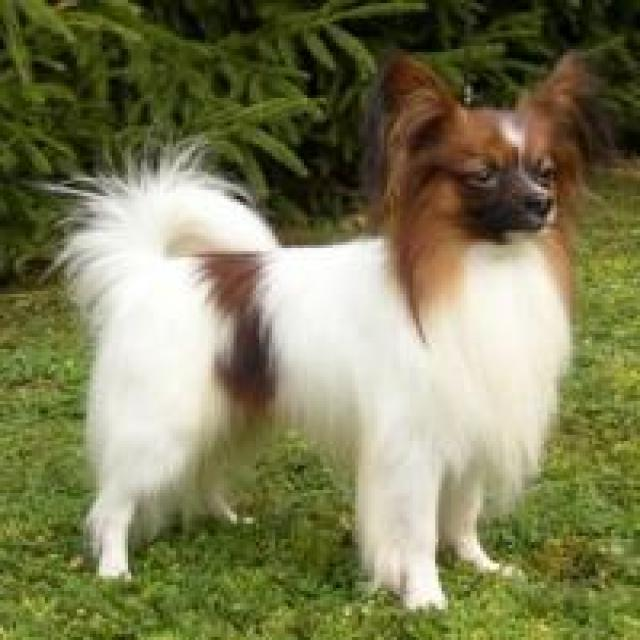relax: (34, 47, 606, 603)
